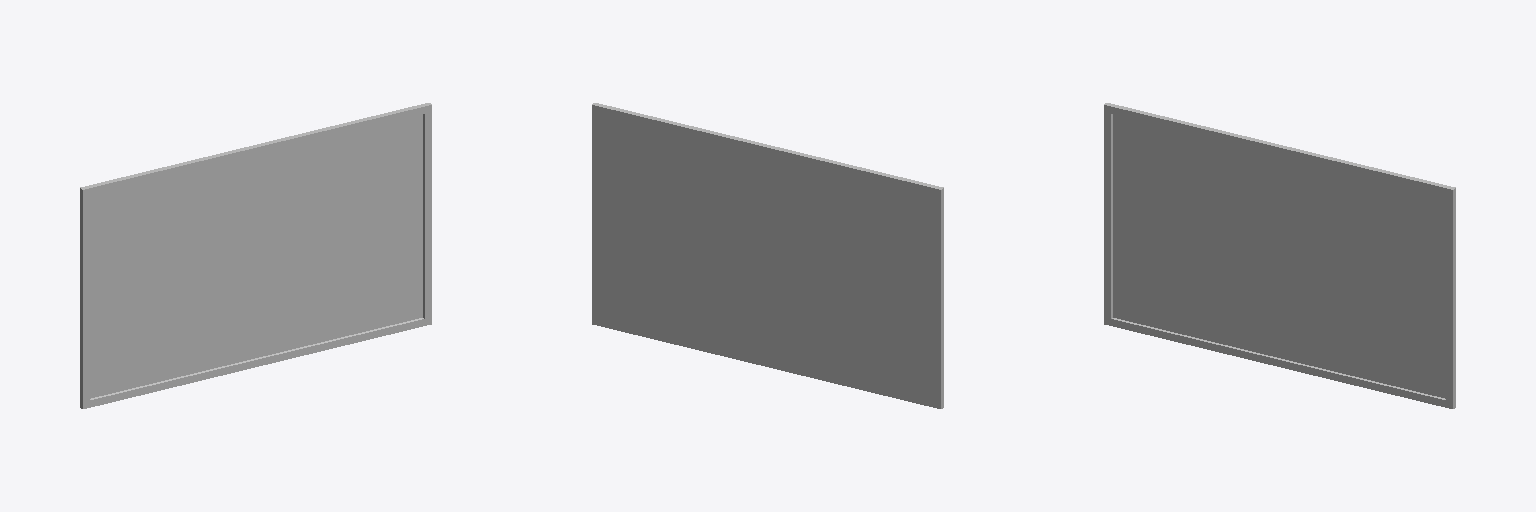
File: blackboard.obj
3 renders of one model, left to right at view 1: azimuth 30°, elevation 25°; view 2: azimuth 150°, elevation 25°; view 3: azimuth 330°, elevation 25°, orthographic.
Visible parts, largest first — view 1: Cube; view 2: Cube; view 3: Cube.
Boxes of the visible parts, x1,y1,x2,y2 form: Cube: [80, 103, 431, 408]; Cube: [592, 103, 943, 408]; Cube: [1104, 103, 1455, 408].
Size of the model in its own units: 13 by 7.8 by 0.2.